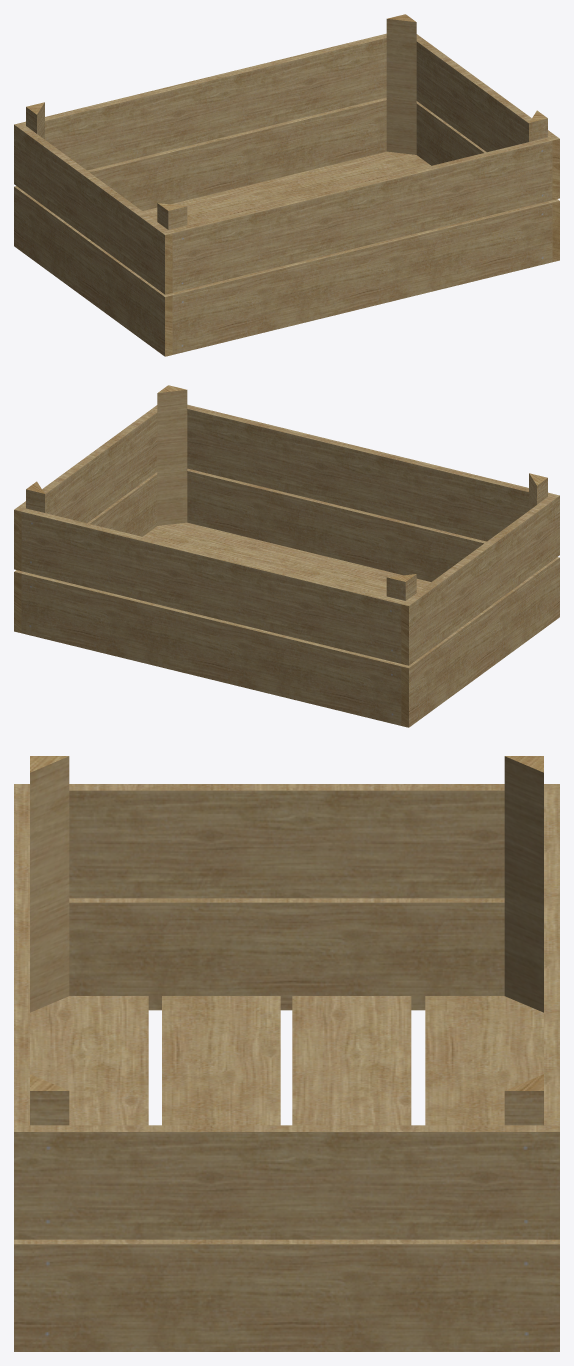
The model's file is fruit_crate.fbx.
3 renders of one model, top to bottom at view 1: azimuth 30°, elevation 25°; view 2: azimuth 150°, elevation 25°; view 3: azimuth 270°, elevation 25°, orthographic. The views are drawn at different scales.
Parts seen in each view (by area): view 1: node_12b0fffc_5fce_427d_b031_1811983cd296_mesh0; view 2: node_12b0fffc_5fce_427d_b031_1811983cd296_mesh0; view 3: node_12b0fffc_5fce_427d_b031_1811983cd296_mesh0.
Part boxes in pixels (left/top/right/bottom): node_12b0fffc_5fce_427d_b031_1811983cd296_mesh0: left=14, top=14, right=559, bottom=356; node_12b0fffc_5fce_427d_b031_1811983cd296_mesh0: left=14, top=385, right=559, bottom=727; node_12b0fffc_5fce_427d_b031_1811983cd296_mesh0: left=14, top=756, right=559, bottom=1351.
Size of the model in its own units: 200 by 68.13 by 133.
Materials: 1 (1 with a texture image).
